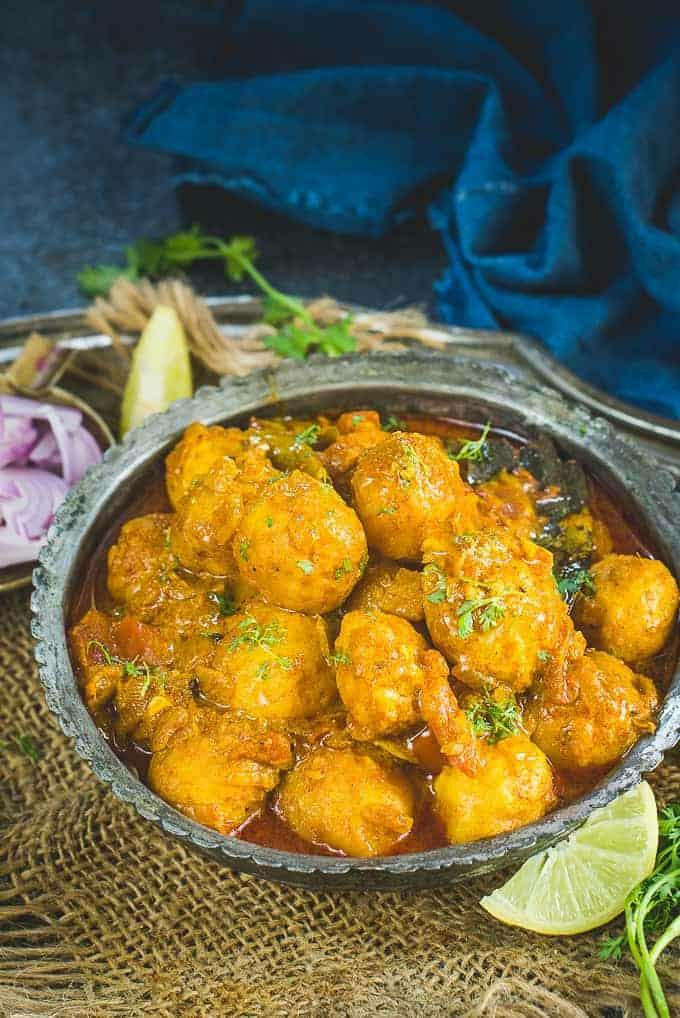DumAloo: (71, 400, 680, 854)
